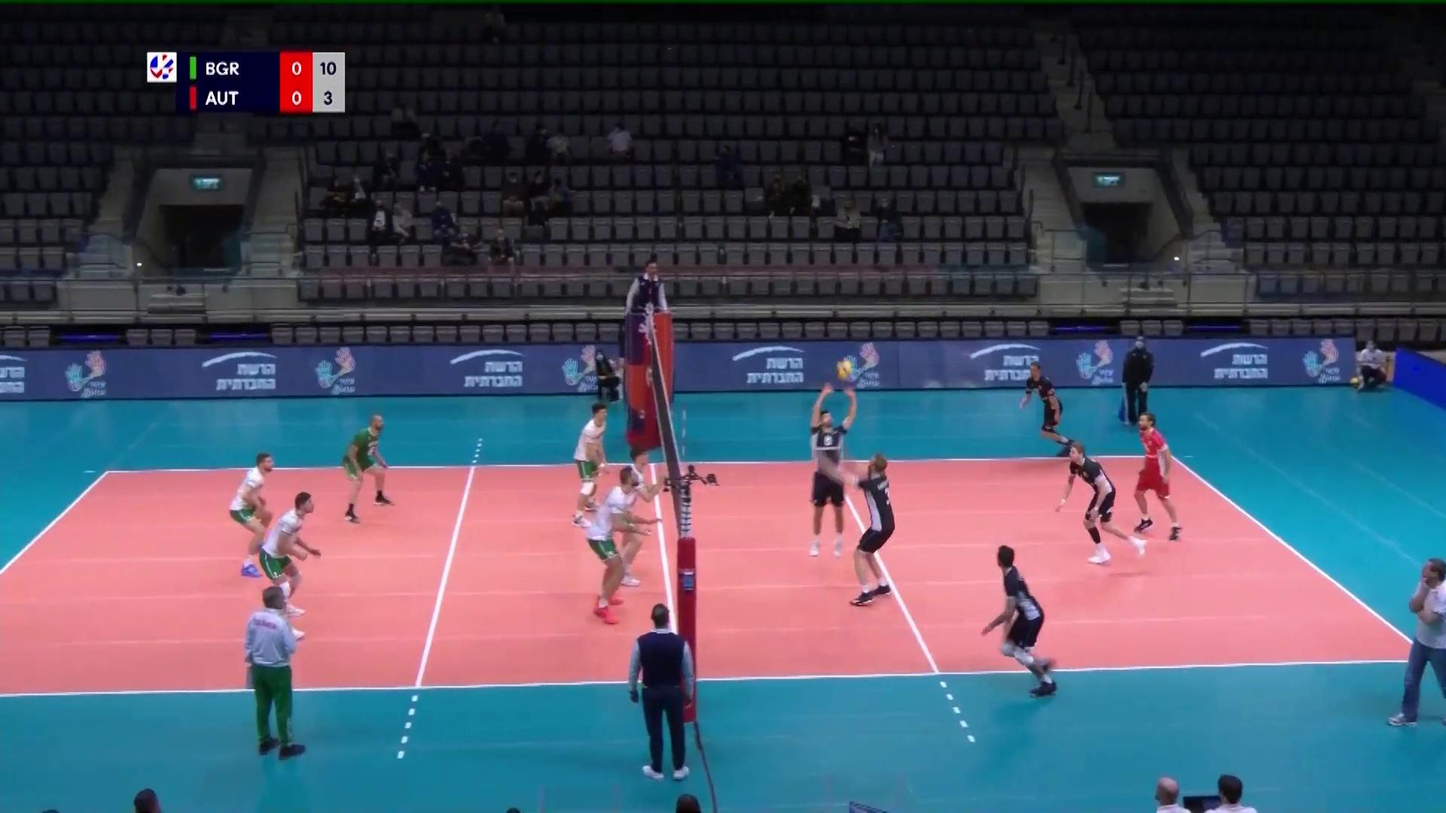ball: (835, 356, 854, 383)
